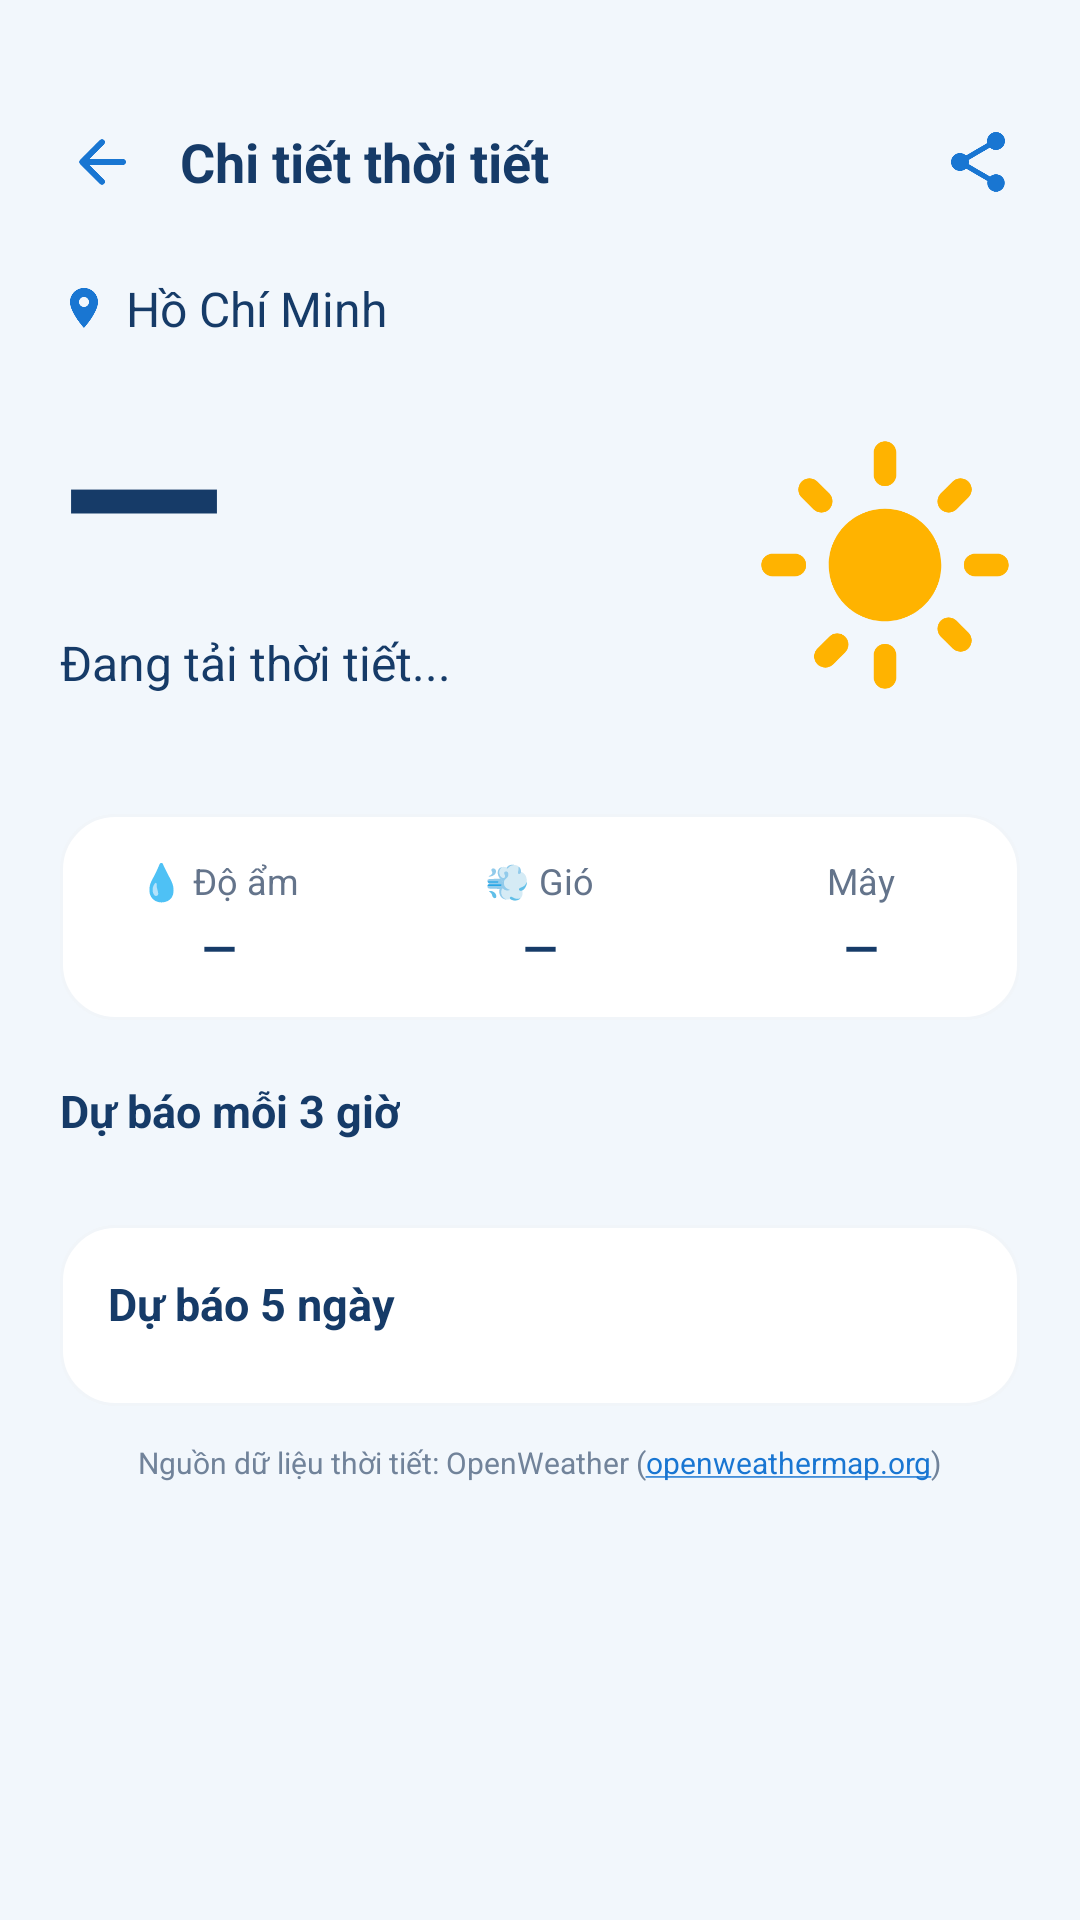

Where icons sit on this 1080x1920 app screen, as BBox(x1, y1, x2, y2):
Back: BBox(79, 139, 126, 185)
Location: BBox(70, 288, 98, 328)
Share: BBox(951, 132, 1005, 192)
Weather icon: BBox(761, 441, 1009, 689)
